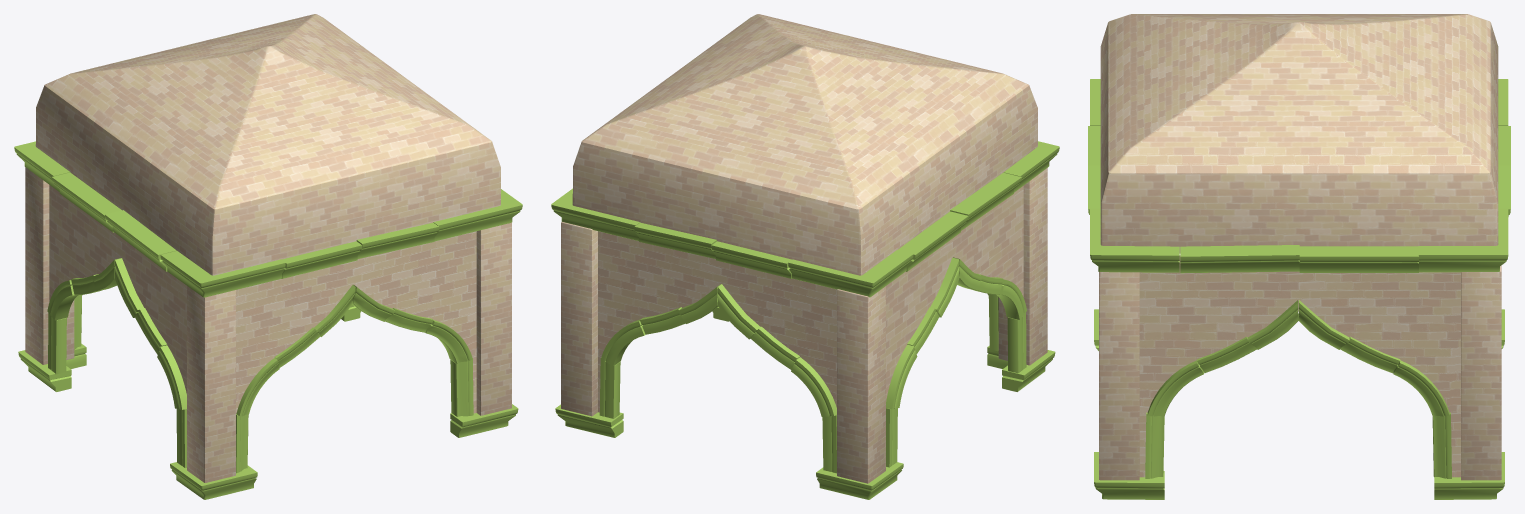
Rendered from SM_ceiling_dome.fbx.
3 views of the same model, side by side, from view 1: azimuth 30°, elevation 25°; view 2: azimuth 150°, elevation 25°; view 3: azimuth 270°, elevation 25° (orthographic). The views are drawn at different scales.
Visible parts, largest first — view 1: Plane279; view 2: Plane279; view 3: Plane279.
Boxes of the visible parts, <box> form: Plane279: <box>14,14,522,499</box>; Plane279: <box>551,14,1059,499</box>; Plane279: <box>1088,14,1510,499</box>.
Size of the model in its own units: 274 by 283 by 274.
